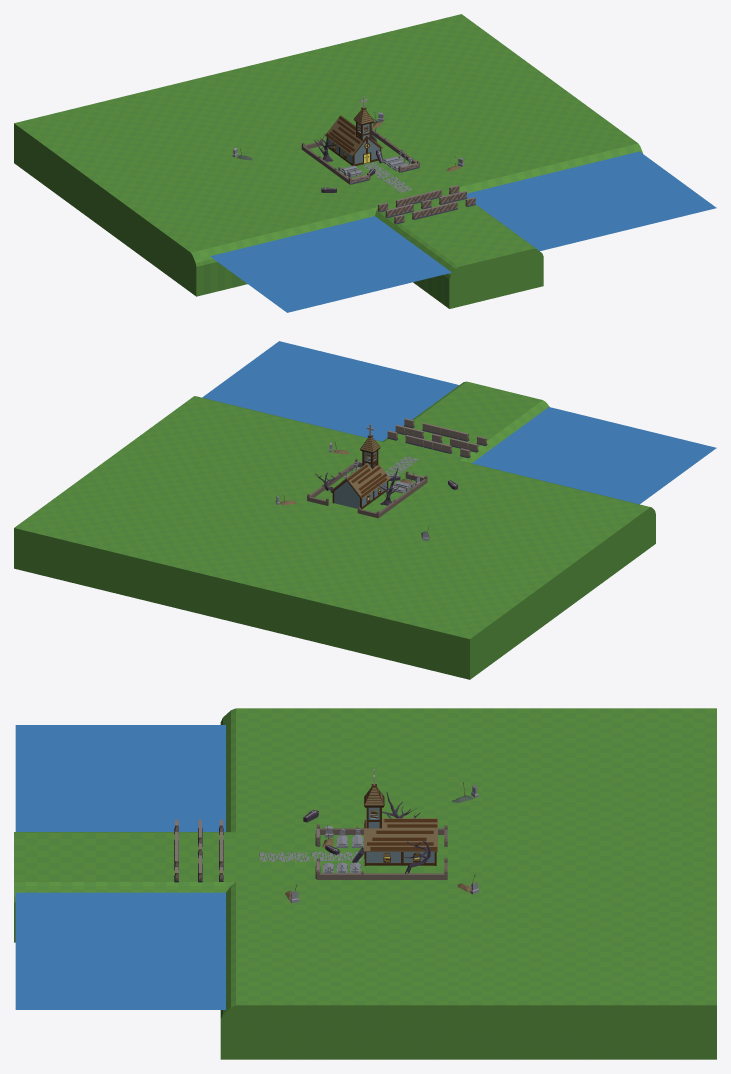
Rendered from ChurchScene.fbx.
3 views of the same model, one above another, from view 1: azimuth 30°, elevation 25°; view 2: azimuth 150°, elevation 25°; view 3: azimuth 270°, elevation 25° (orthographic). The views are drawn at different scales.
Parts seen in each view (by area): view 1: Ground, Water, Church, ChurchWall, Wall3.002, Wall2.008, Wall1; view 2: Ground, Water, Church, ChurchWall, Wall1, Wall3.002, Wall2.008; view 3: Ground, Water, Church, ChurchWall.
Boxes of the visible parts, x1,y1,x2,y2 form: Ground: [14, 14, 642, 308]; Water: [210, 151, 716, 312]; Church: [325, 96, 382, 165]; ChurchWall: [301, 126, 419, 184]; Wall3.002: [394, 197, 475, 224]; Wall2.008: [385, 191, 467, 217]; Wall1: [378, 185, 459, 212]; Ground: [14, 381, 655, 679]; Water: [202, 341, 716, 504]; Church: [330, 424, 389, 508]; ChurchWall: [307, 459, 427, 518]; Wall1: [387, 430, 470, 458]; Wall3.002: [404, 418, 487, 445]; Wall2.008: [395, 424, 478, 452]; Ground: [14, 708, 716, 1059]; Water: [15, 725, 225, 1009]; Church: [364, 769, 437, 865]; ChurchWall: [315, 824, 447, 879].
Bounding box in the file's own units: 200 × 44.37 × 200.
